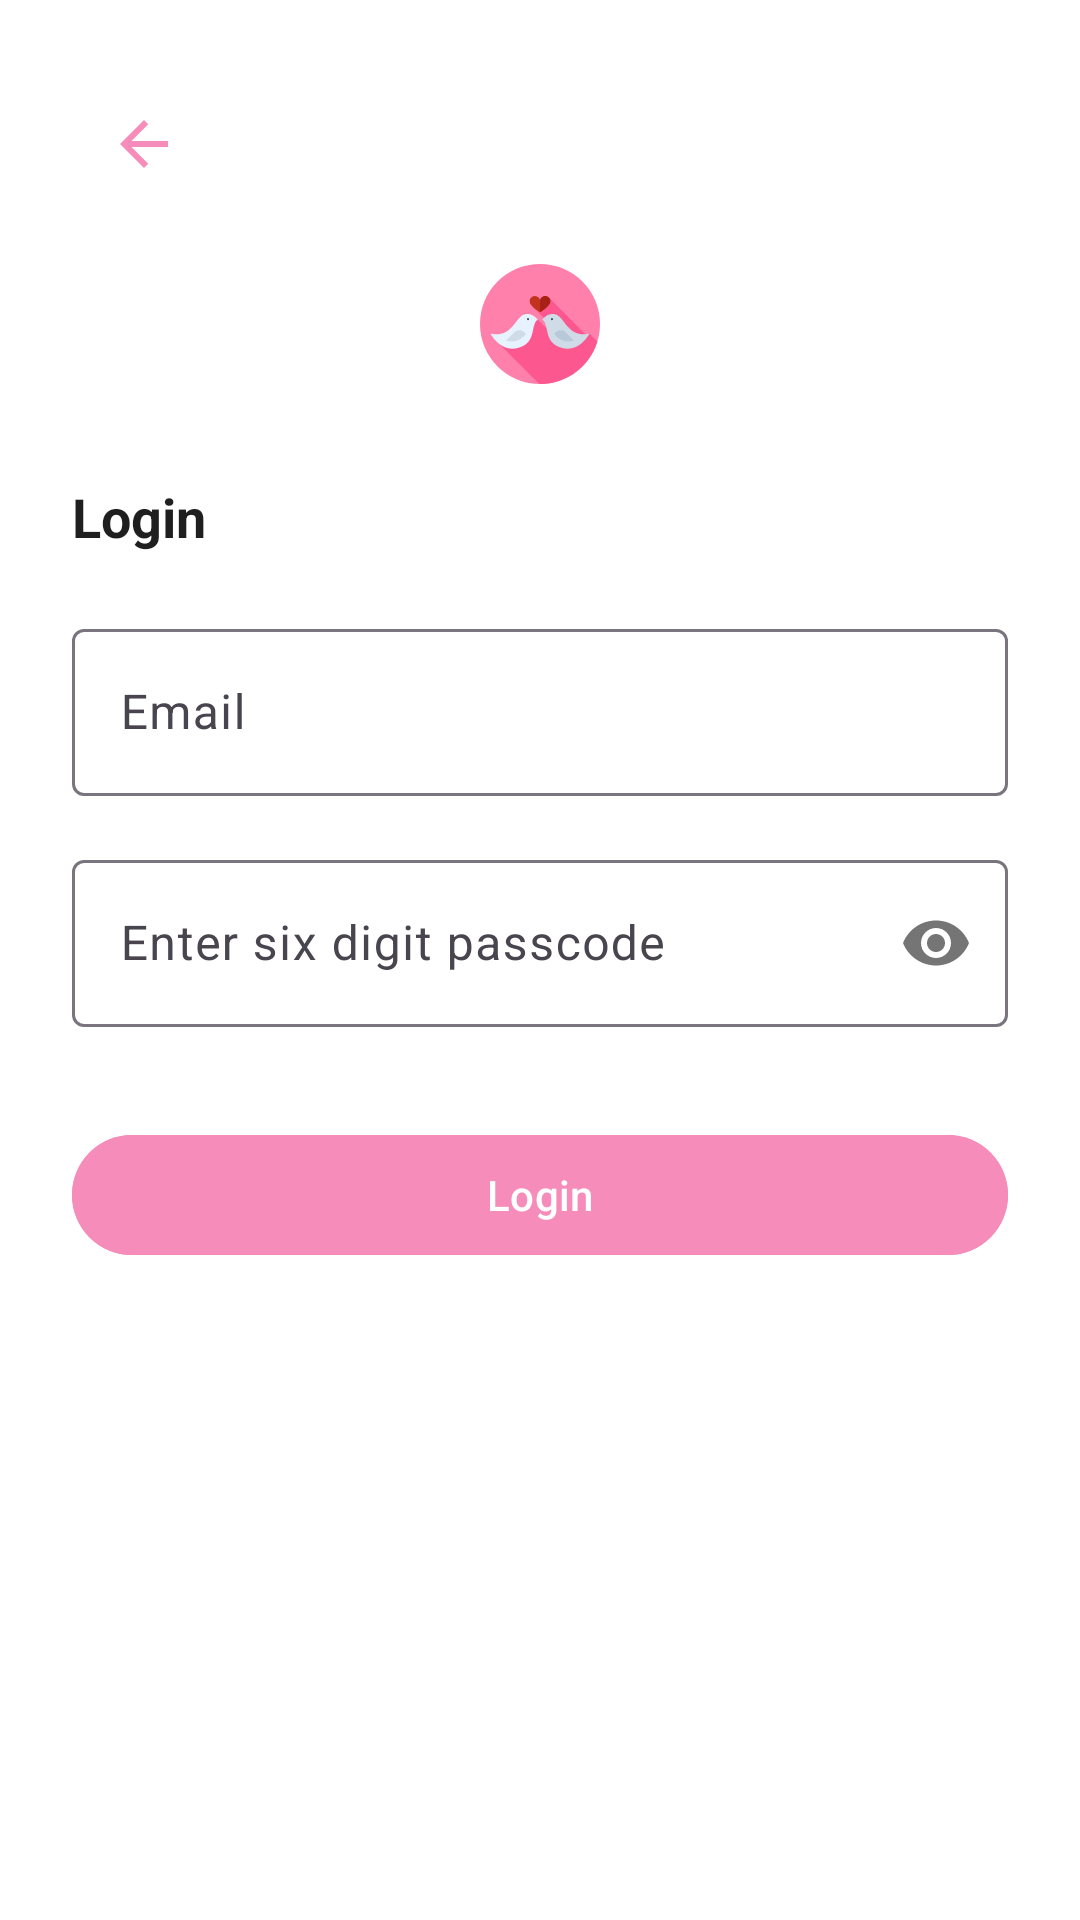

Icon bounding boxes for this 1080px x 1920px phone screenshot, format (x1, y1, x2, y2):
Back Button: (120, 120, 168, 168)
